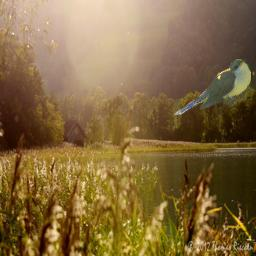Cuckoo: (173, 59, 251, 115)
